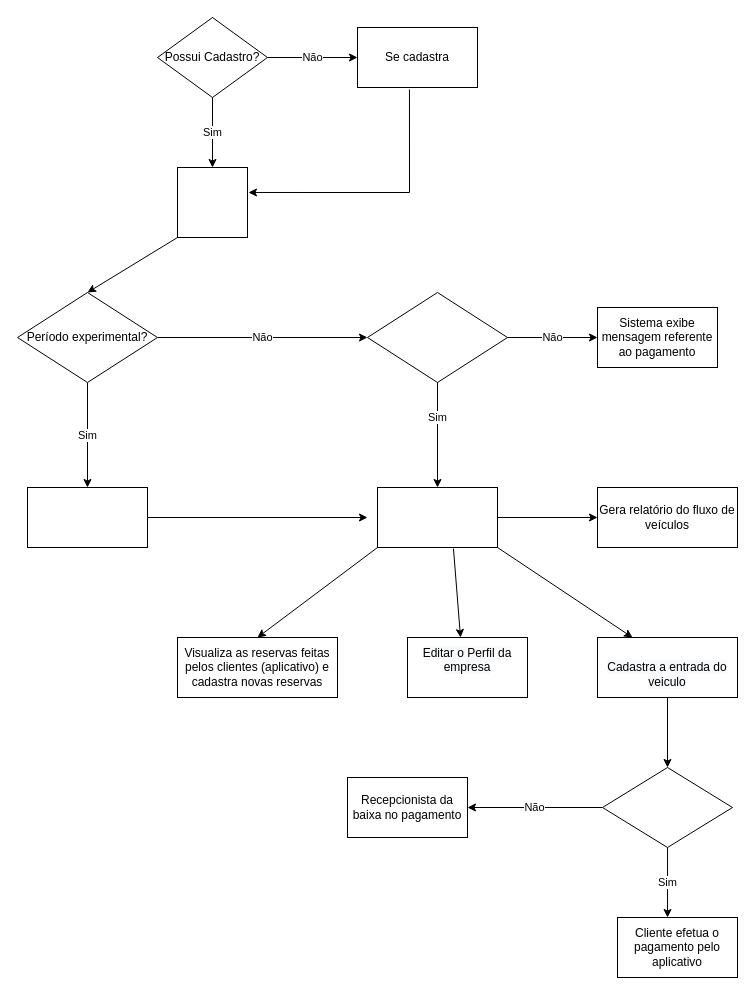
The diagram is 755 pixels wide and 995 high, and some of its shapes have lost their labels. The shapes that lost their labels are listed below. From the top down, each one's centre as x and y in pixels, then its label:
the point at 212,202: Login
the point at 437,337: Esta em dia com os pagamentos?
the point at 87,517: Sistema exibe mensagem referente ao período experimental
the point at 437,517: Tem acesso a todas as telas do sistema
the point at 667,807: Pagamento online?
